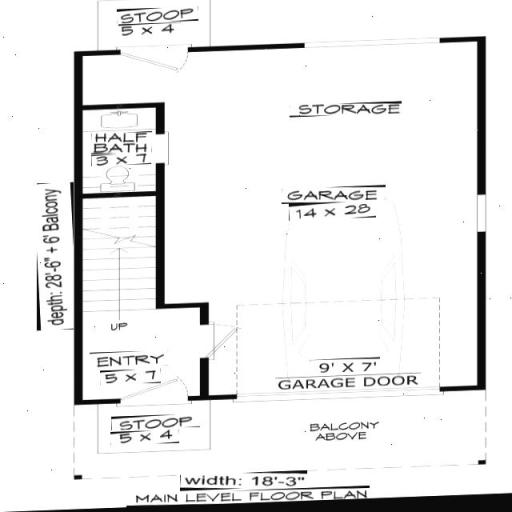bathroom: (80, 106, 174, 197)
garage: (187, 60, 478, 375)
